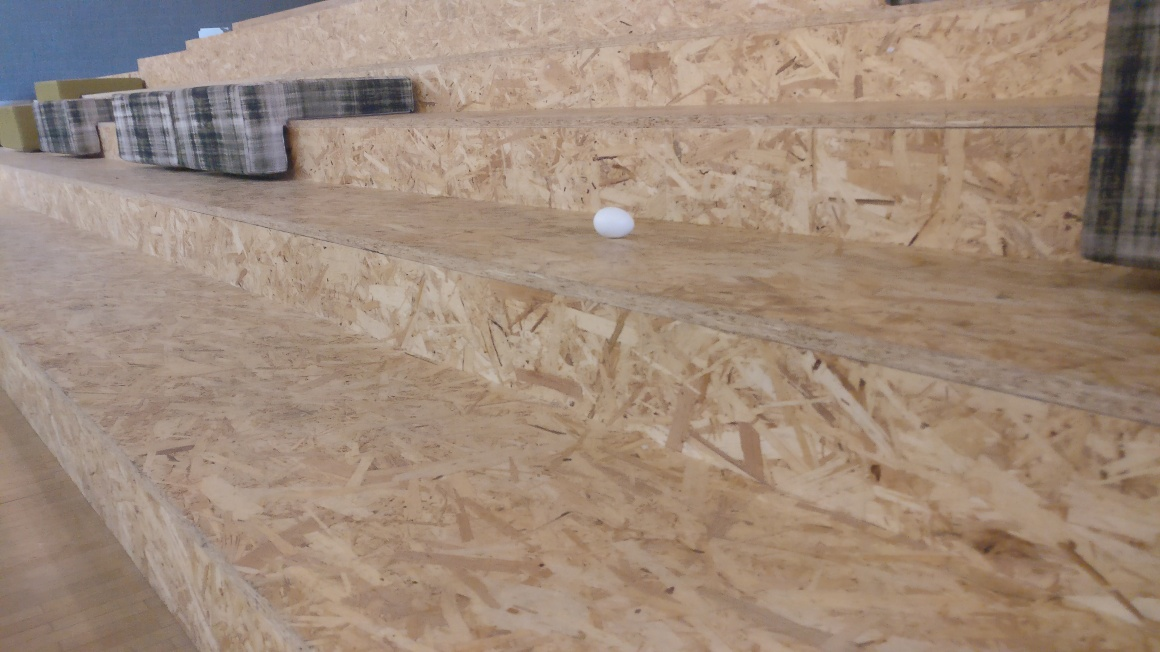egg: (592, 205, 635, 239)
